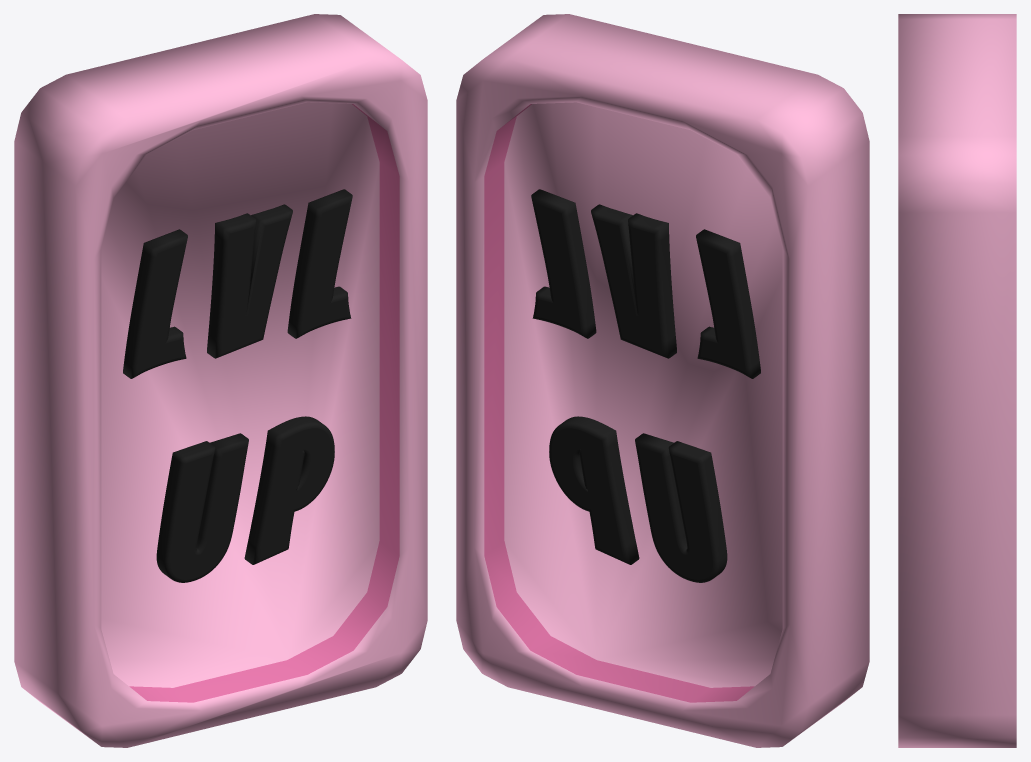
The model's file is Card4.fbx.
3 renders of one model, left to right at view 1: azimuth 30°, elevation 25°; view 2: azimuth 150°, elevation 25°; view 3: azimuth 270°, elevation 25°, orthographic. The views are drawn at different scales.
Parts seen in each view (by area): view 1: Card, LVLText; view 2: Card, LVLText; view 3: Card.
Part boxes in pixels (x1=…): Card: x1=14, y1=14, x2=427, y2=747; LVLText: x1=123, y1=189, x2=352, y2=582; Card: x1=456, y1=14, x2=869, y2=747; LVLText: x1=531, y1=189, x2=760, y2=582; Card: x1=898, y1=14, x2=1016, y2=747.
Size of the model in its own units: 117 by 200 by 35.4.
